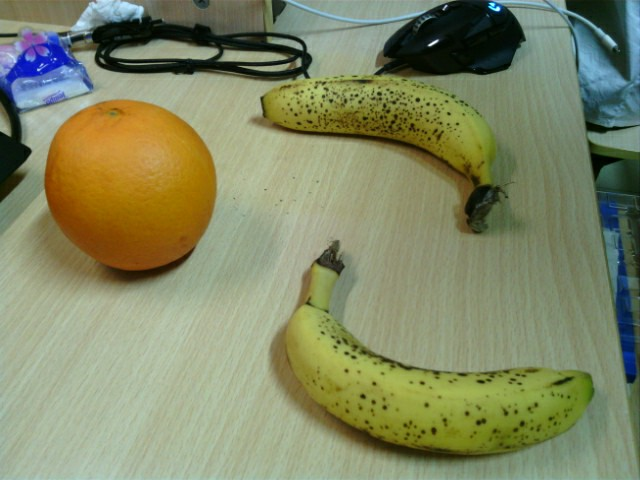normal_banana: (286, 241, 596, 455), (260, 74, 504, 235)
normal_orange: (45, 100, 217, 272)
